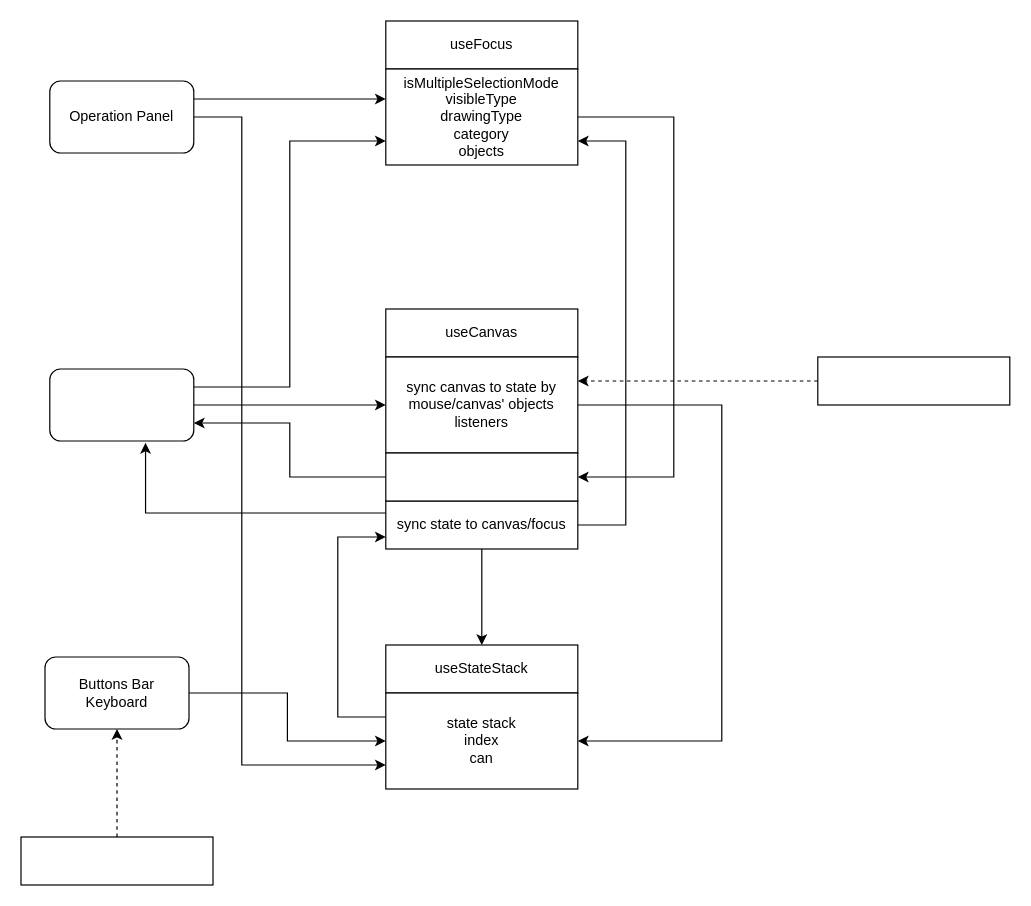
The diagram is 1031 pixels wide and 906 high, and some of its shapes have lost their labels. The box of each missing label's shape, as (x1, y1, x2, y2) in pixels:
Canvas: (49, 368, 194, 441)
sync focus to canvas(visible): (385, 452, 578, 501)
useKeyboard: (20, 836, 213, 885)
useMouse: (817, 356, 1010, 405)
